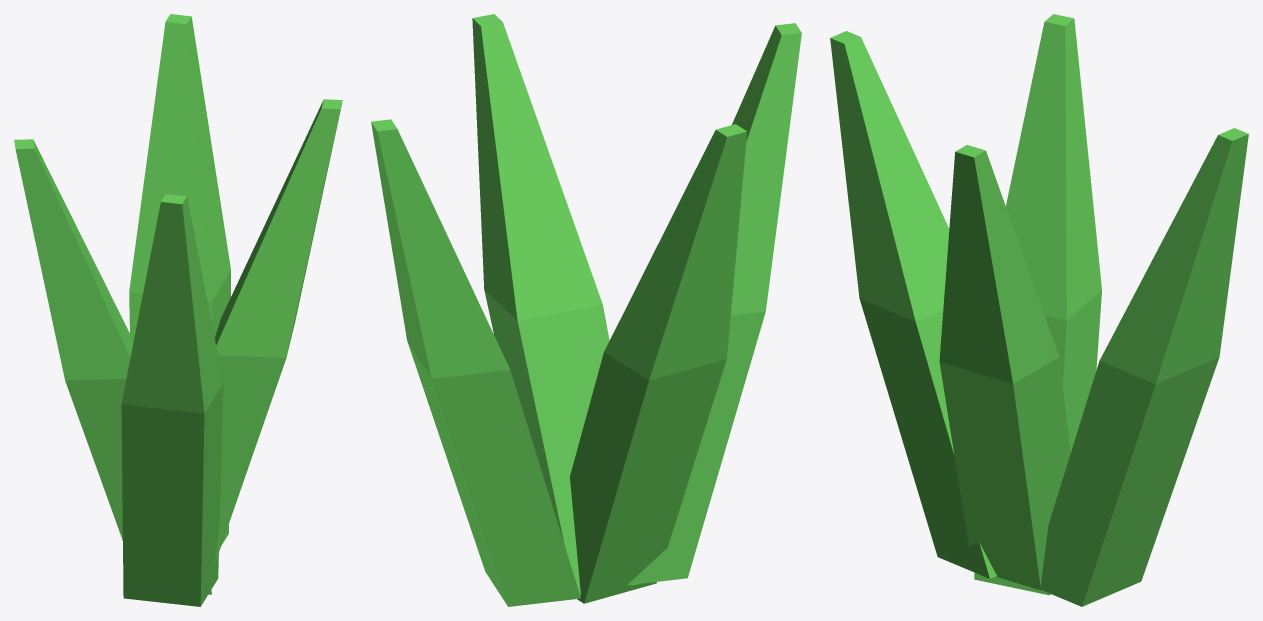
File: brindille.glb
3 views of the same model, side by side, from view 1: azimuth 30°, elevation 25°; view 2: azimuth 150°, elevation 25°; view 3: azimuth 270°, elevation 25° (orthographic). The views are drawn at different scales.
Parts seen in each view (by area): view 1: Grass.023_Grass_0; view 2: Grass.023_Grass_0; view 3: Grass.023_Grass_0.
Boxes of the visible parts, x1,y1,x2,y2 form: Grass.023_Grass_0: [14, 14, 342, 606]; Grass.023_Grass_0: [371, 14, 801, 606]; Grass.023_Grass_0: [830, 14, 1248, 606].
Size of the model in its own units: 3.06 by 4.68 by 3.62.
